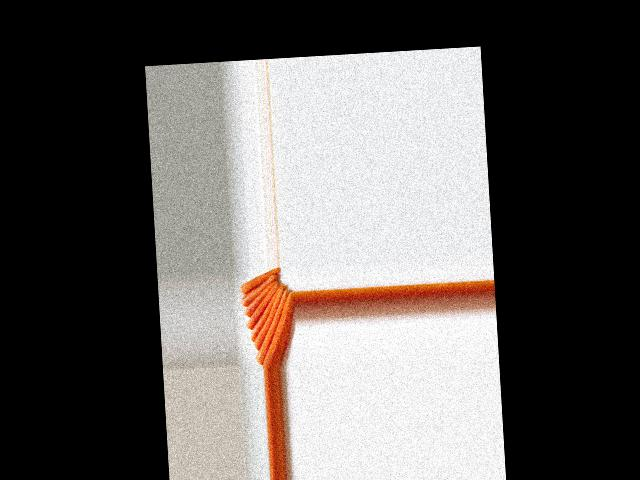carrot: (260, 292, 297, 368)
